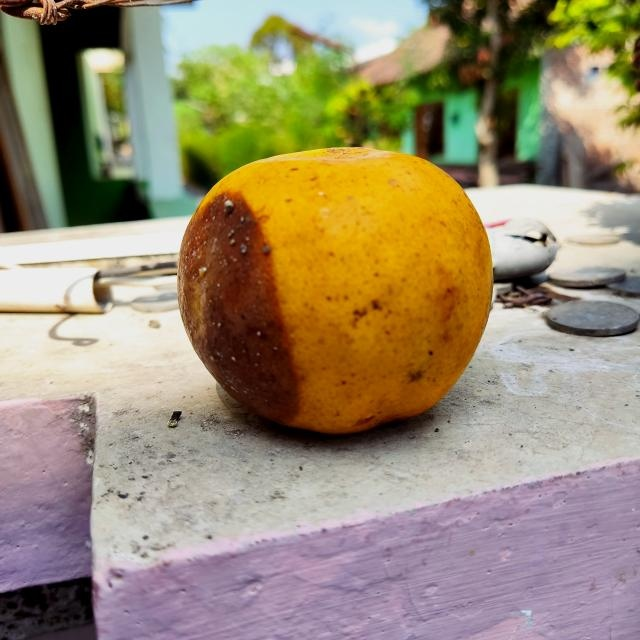agrume: (178, 146, 495, 434)
